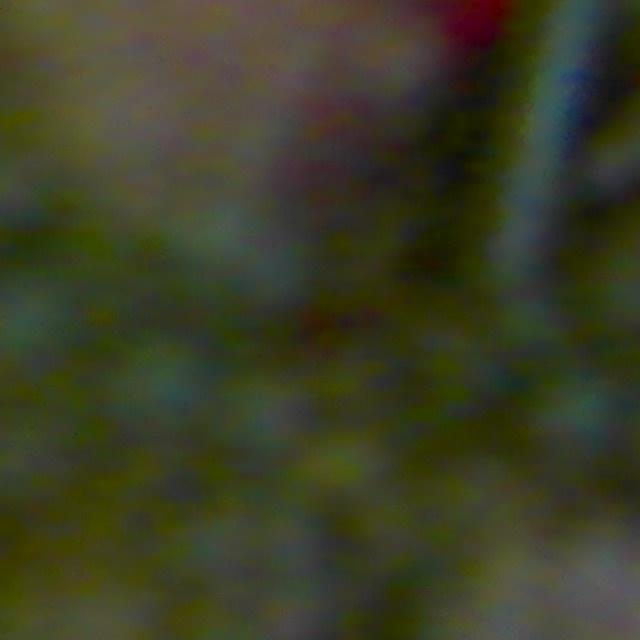SeaGrape: (534, 368, 629, 456)
